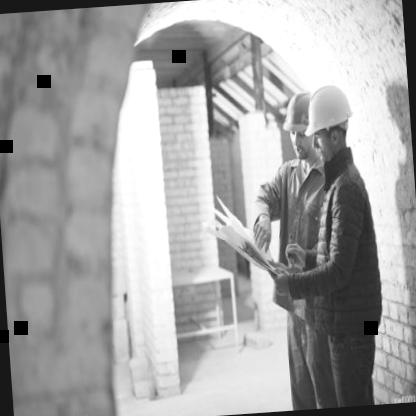helmet: (302, 82, 356, 166), (281, 90, 327, 166)
